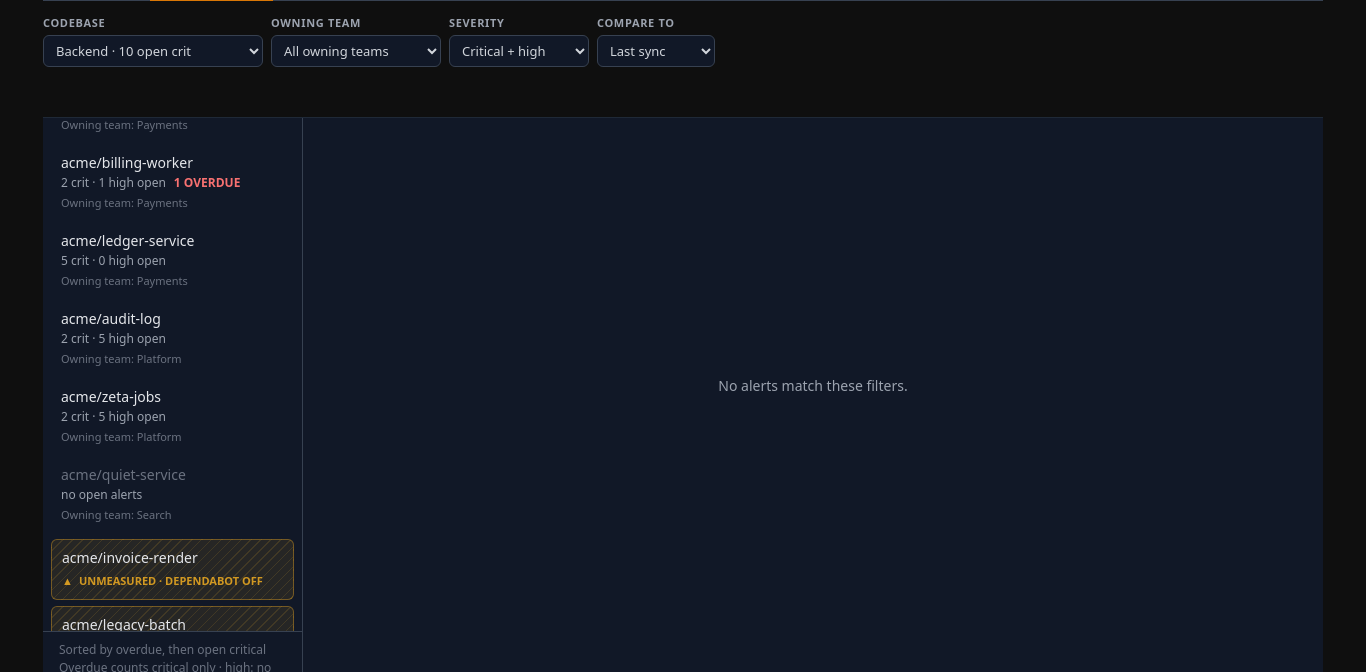
Test: selecting a repository from the rail › writes only repo, as a replace with scroll:false: no history entry, view and team untouched
(page scrolled)
Click the button with test id "rail-row": (172, 339) x1=51 y1=301 x2=294 y2=377
(page scrolled)
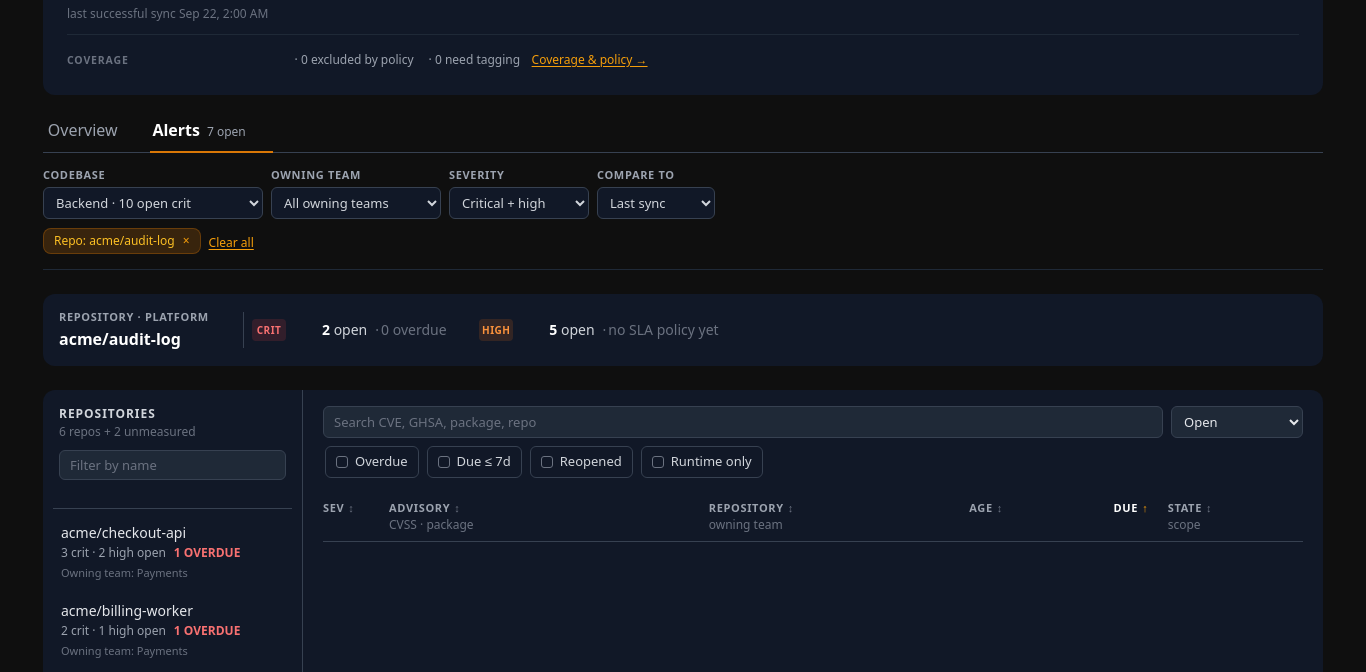
Check: the text "acme/audit-log" is shown, box x1=59 y1=328 x2=181 y2=350
